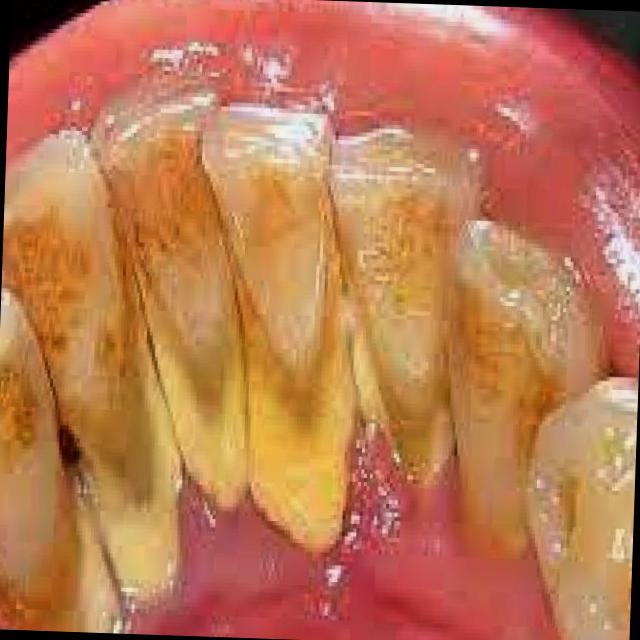calculus: (220, 286, 370, 574), (137, 318, 263, 540), (59, 424, 188, 611), (352, 314, 462, 514), (0, 522, 128, 633)
